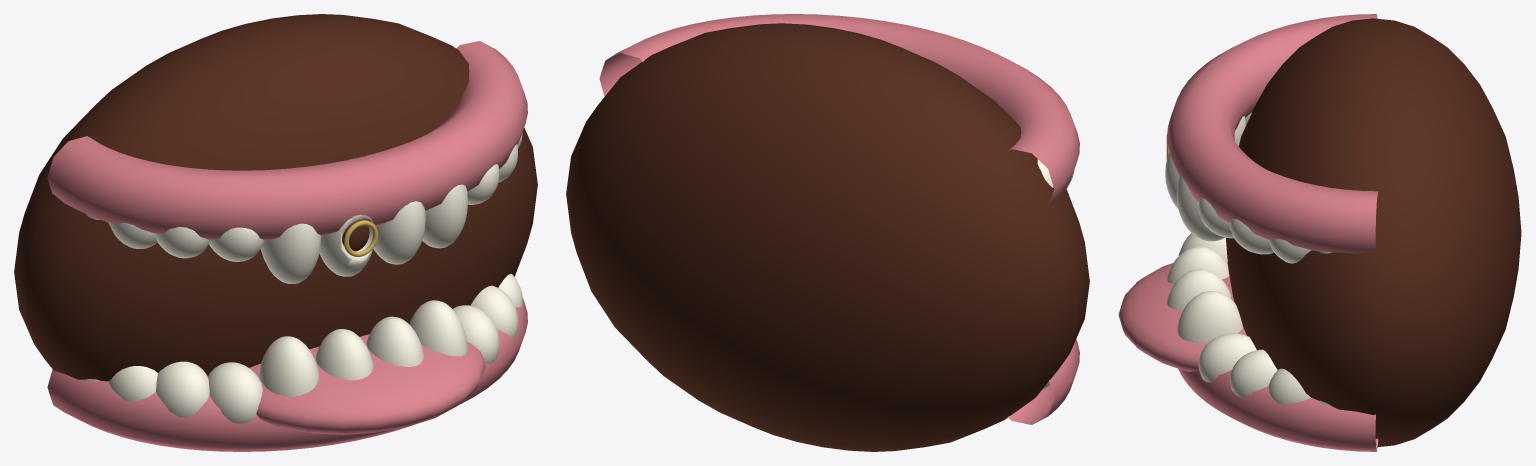
File: mouth-rodent-cavity.glb
The picture shows the model from 3 angles, left to right: view 1: azimuth 30°, elevation 25°; view 2: azimuth 150°, elevation 25°; view 3: azimuth 270°, elevation 25°; orthographic projection. The views are drawn at different scales.
Parts seen in each view (by area): view 1: oral cavity, gingiva.011, tongue.005, gingiva.010, tooth.204, tooth.216, tooth.203, tooth.202, tooth.207, tooth.218, tooth.205, tooth.206 (+10 smaller); view 2: oral cavity, gingiva.011, gingiva.010; view 3: oral cavity, gingiva.011, gingiva.010, tongue.005, tooth.207, tooth.208, tooth.209, tooth.206, tooth.205, tooth.219, tooth.210, tooth.221 (+4 smaller).
Boxes of the visible parts, <box> form: oral cavity: <box>14,14,537,381</box>; gingiva.011: <box>47,41,527,242</box>; tongue.005: <box>249,334,485,434</box>; gingiva.010: <box>47,297,527,451</box>; tooth.204: <box>259,336,319,396</box>; tooth.216: <box>260,223,320,283</box>; tooth.203: <box>208,362,262,423</box>; tooth.202: <box>156,361,209,417</box>; tooth.207: <box>409,300,467,356</box>; tooth.218: <box>373,201,425,264</box>; tooth.205: <box>315,329,373,380</box>; tooth.206: <box>366,316,423,366</box>; oral cavity: <box>566,23,1089,451</box>; gingiva.011: <box>599,14,1079,204</box>; gingiva.010: <box>1008,339,1079,424</box>; oral cavity: <box>1226,18,1521,446</box>; gingiva.011: <box>1167,14,1378,253</box>; gingiva.010: <box>1178,368,1378,451</box>; tongue.005: <box>1118,263,1246,371</box>; tooth.207: <box>1177,291,1243,343</box>; tooth.208: <box>1198,333,1256,382</box>; tooth.209: <box>1229,349,1277,397</box>; tooth.206: <box>1166,269,1231,310</box>; tooth.205: <box>1167,246,1229,283</box>; tooth.219: <box>1176,175,1224,241</box>; tooth.210: <box>1268,368,1310,405</box>; tooth.221: <box>1229,219,1273,254</box>.
Size of the model in its own units: 1.3 by 0.98 by 0.98.
